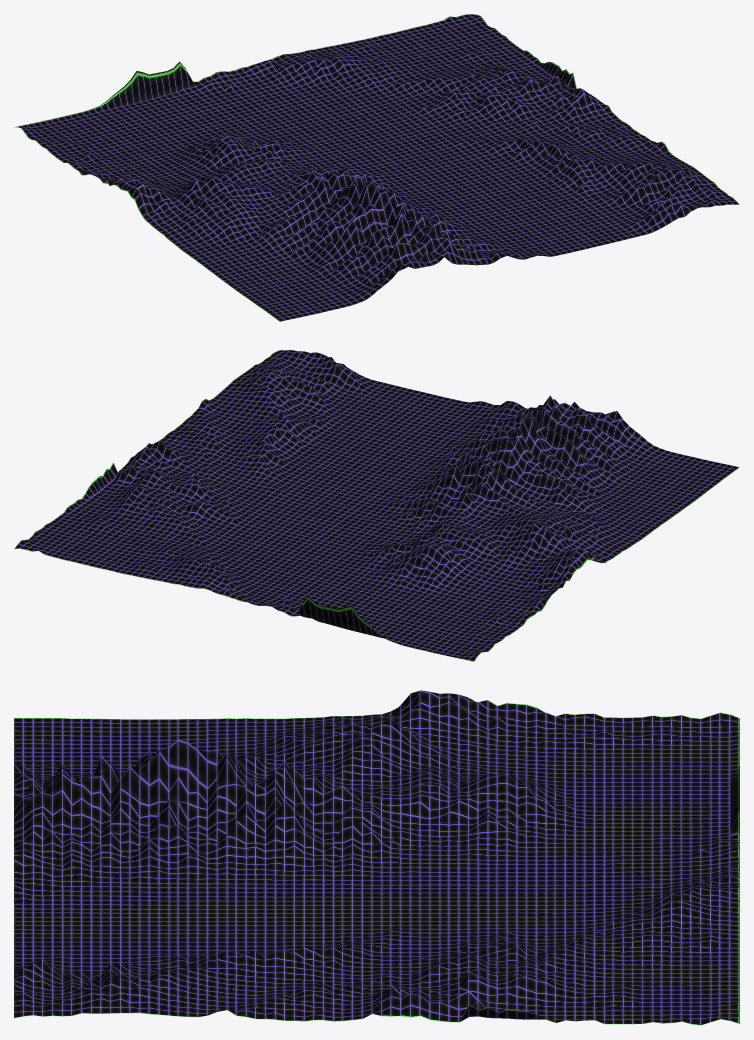
File: terrain.glb
The picture shows the model from 3 angles, top to bottom: view 1: azimuth 30°, elevation 25°; view 2: azimuth 150°, elevation 25°; view 3: azimuth 270°, elevation 25°; orthographic projection. The views are drawn at different scales.
Parts seen in each view (by area): view 1: Object_3; view 2: Object_3; view 3: Object_3.
Part boxes in pixels (x1,y1,x2,y2): Object_3: (15,14,739,321); Object_3: (14,350,739,661); Object_3: (14,690,739,1025).
Size of the model in its own units: 1000 by 128 by 1000.
1 material, 1 textured.
